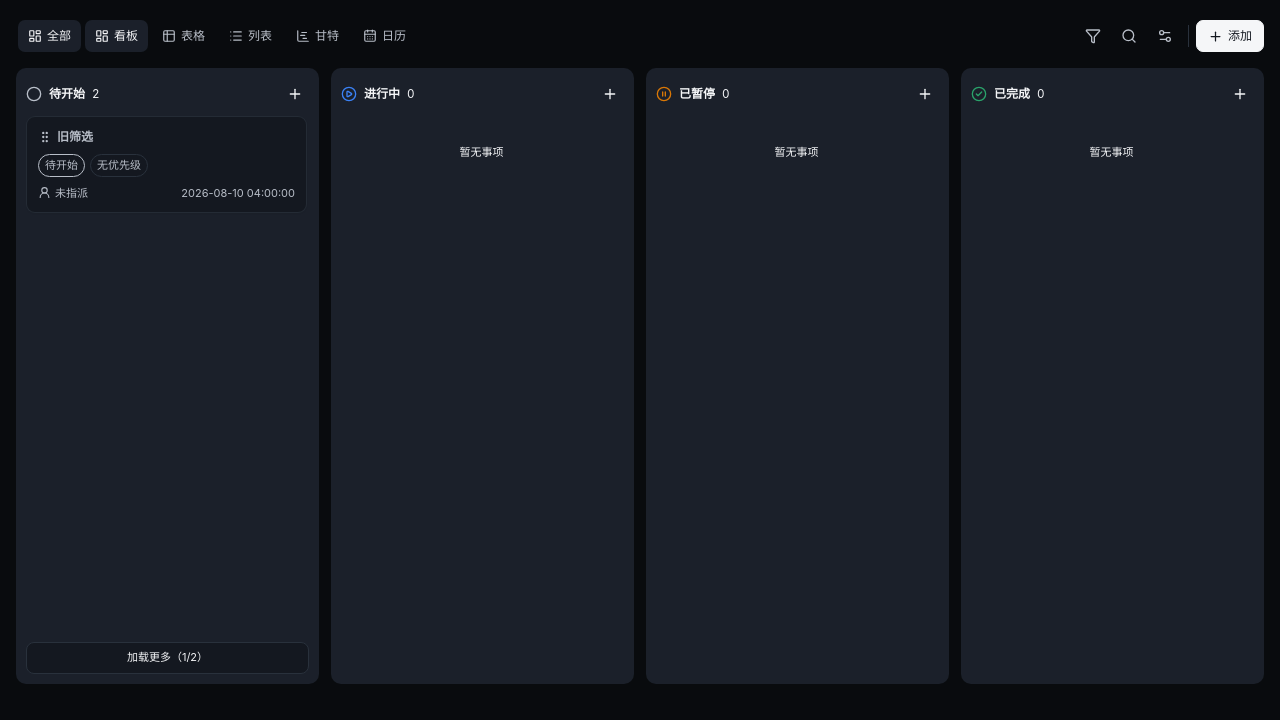
it: WorkBuddy cloud plan workspace › ignores a late load-more response from an obsolete search
This screenshot has width=1280, height=720.
Expected: the text "旧筛选" is shown, [57,129,93,144]
Click the button "加载更多（1/2）" at (168, 658), box [26,642,309,674]
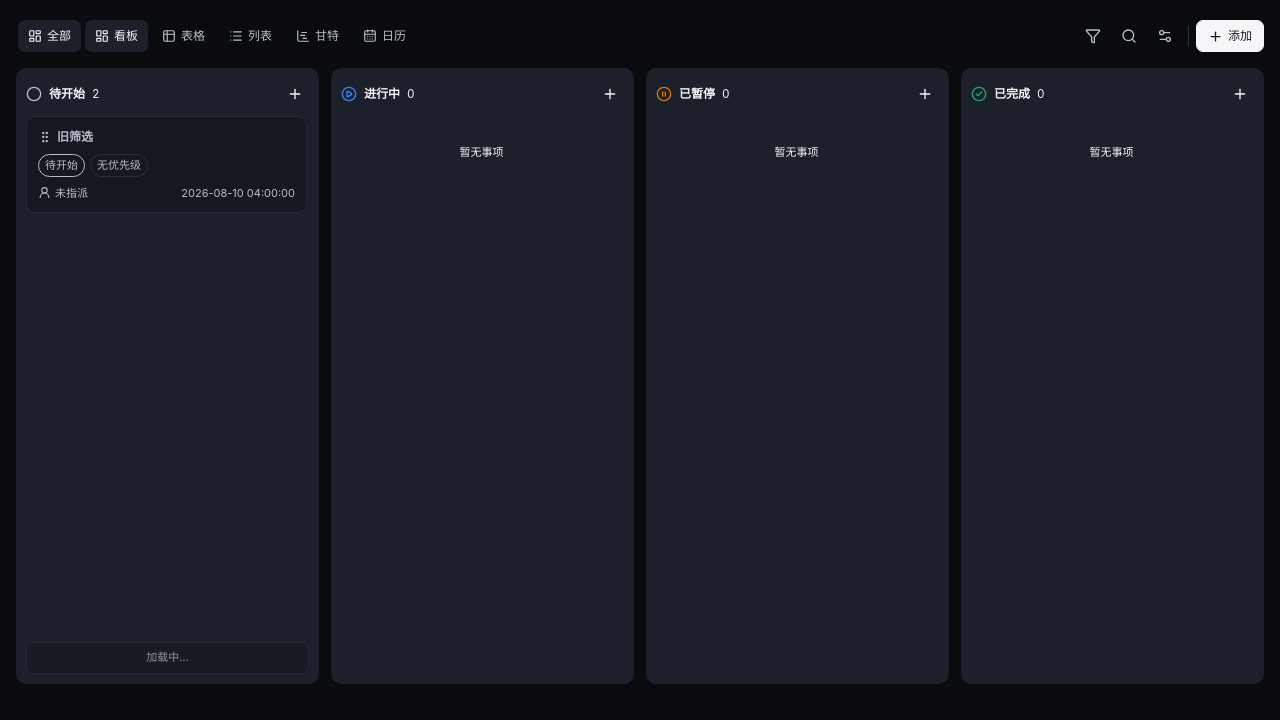
Click the button named "搜索事项" at (1129, 36), box [1113,20,1145,52]
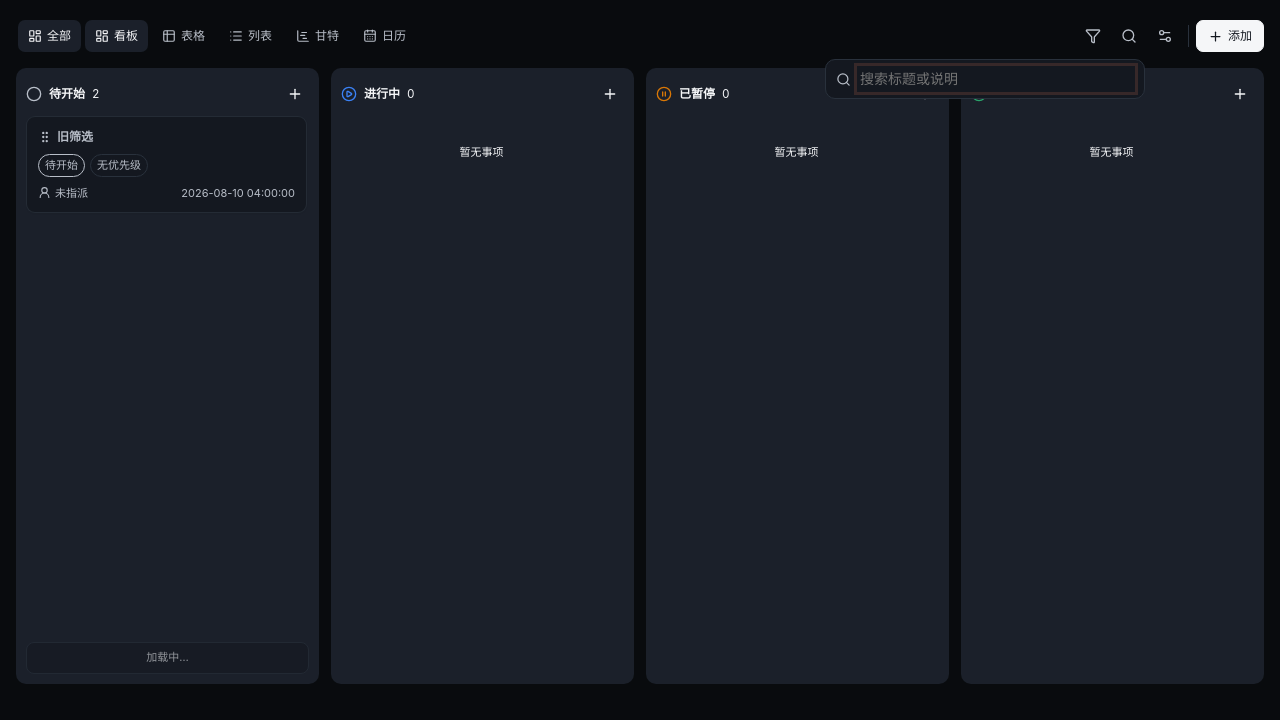
Type "new" into the search field named "搜索事项" at (996, 79), box [858,67,1134,91]
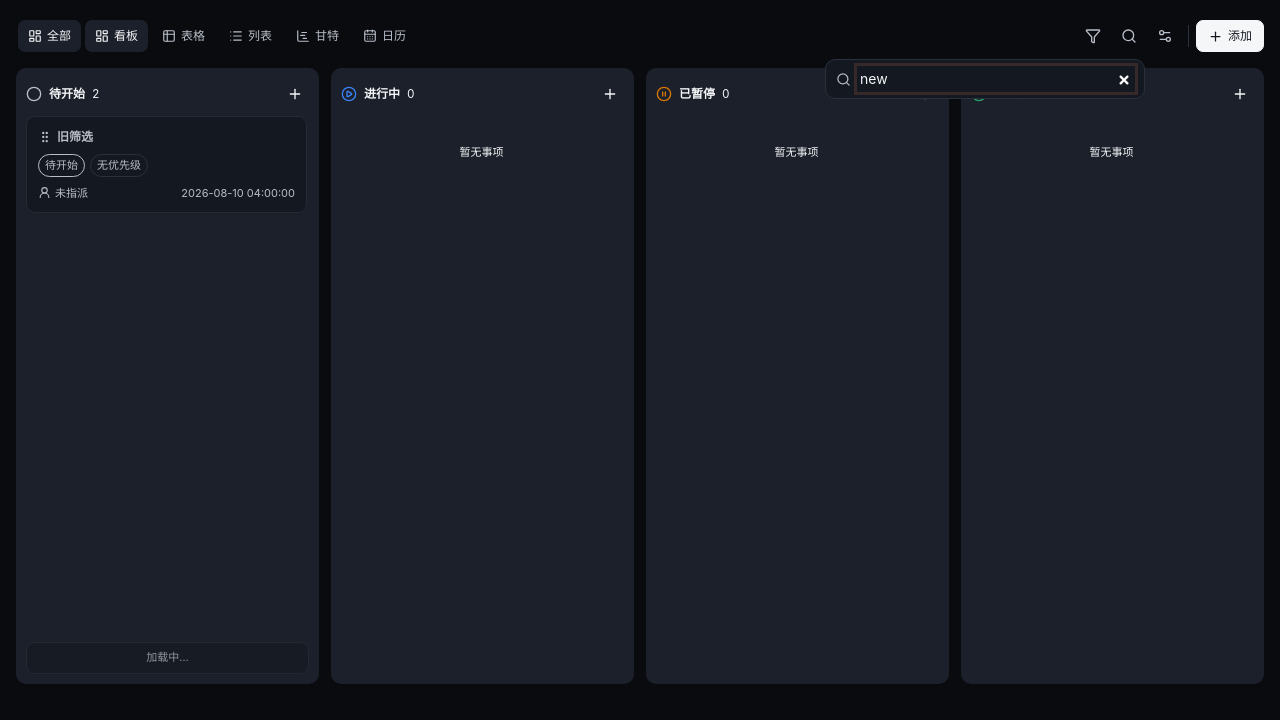
Leave the search field named "搜索事项", box [858,67,1134,91]
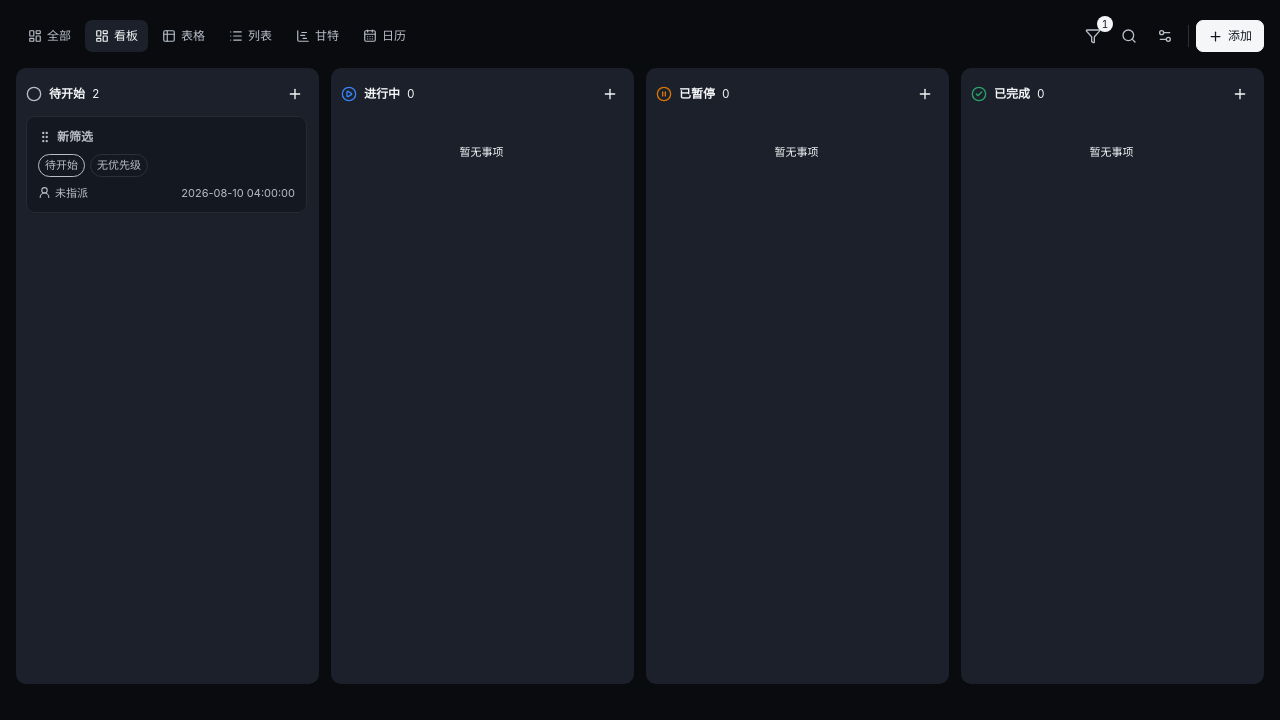
Now the text "新筛选" is shown, box [57,129,93,144]
